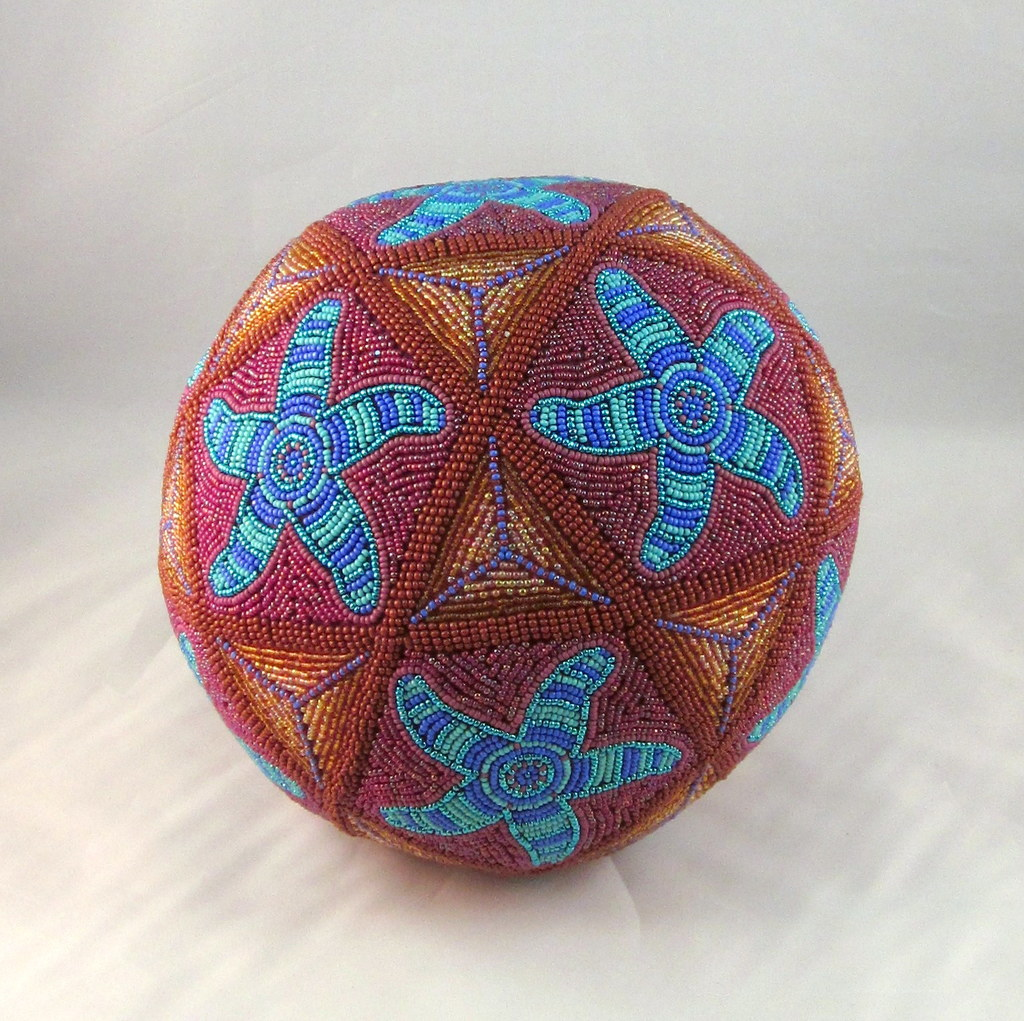Ball: (151, 174, 868, 881)
